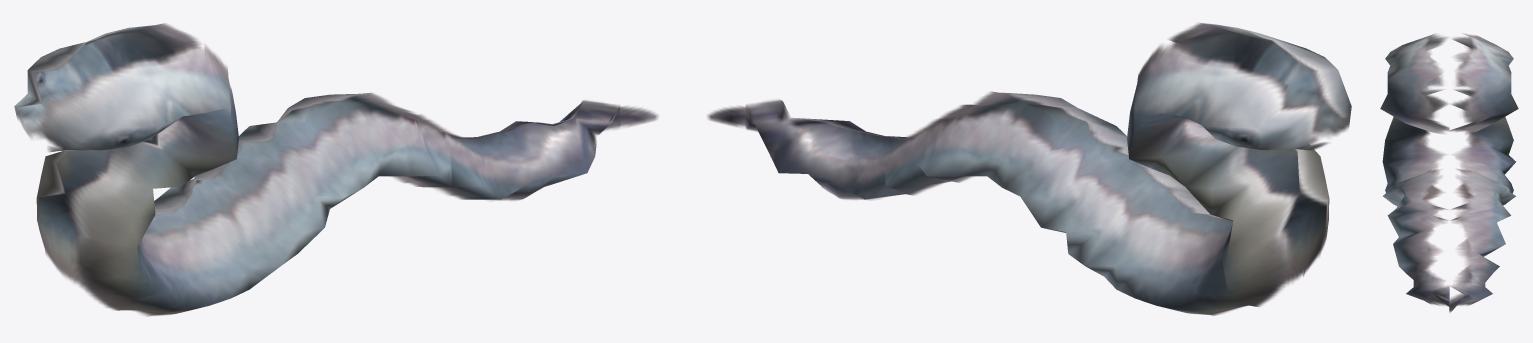
Rendered from fish_rimeeel.glb.
The picture shows the model from 3 angles, left to right: view 1: azimuth 30°, elevation 25°; view 2: azimuth 150°, elevation 25°; view 3: azimuth 270°, elevation 25°; orthographic projection. The views are drawn at different scales.
Visible parts, largest first — view 1: fish_rimeeel; view 2: fish_rimeeel; view 3: fish_rimeeel.
Boxes of the visible parts, x1,y1,x2,y2 form: fish_rimeeel: [14, 23, 658, 316]; fish_rimeeel: [707, 23, 1351, 315]; fish_rimeeel: [1380, 33, 1518, 312].
Bounding box in the file's own units: 0.45 × 0.1941 × 0.1353.
1 material, 1 textured.
